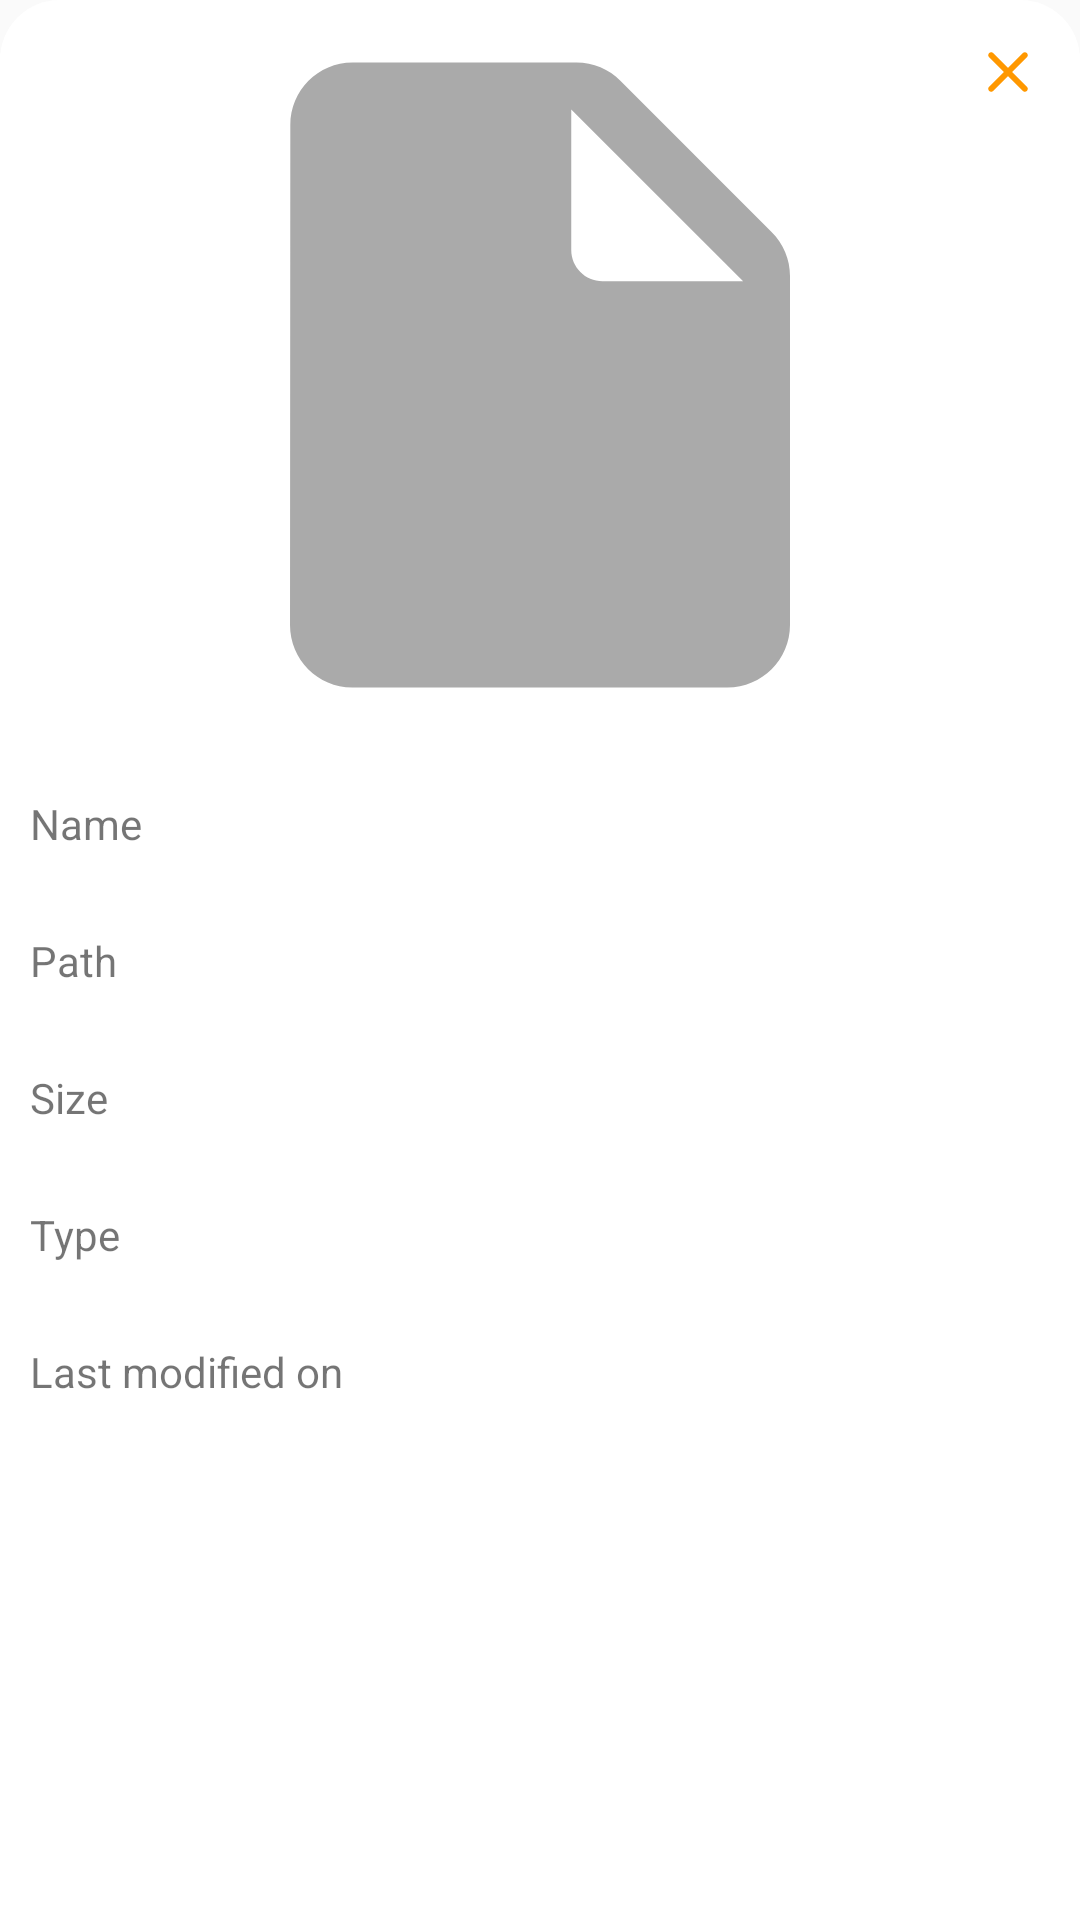

Icons on this 1080px×1920px Android screen, each with its box as {"x1": x1, "y1": y1, "x2": x2, "y2": y2}:
close: {"x1": 988, "y1": 52, "x2": 1028, "y2": 92}
